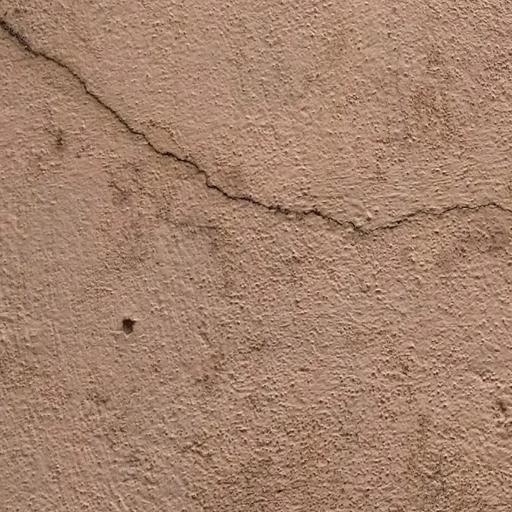minor_crack: (0, 15, 512, 232)
